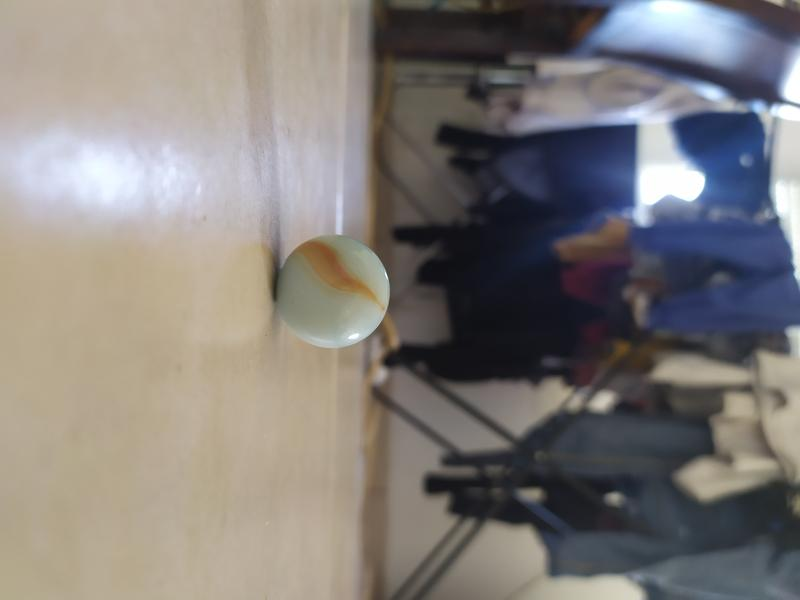Warning: (274, 230, 394, 352)
